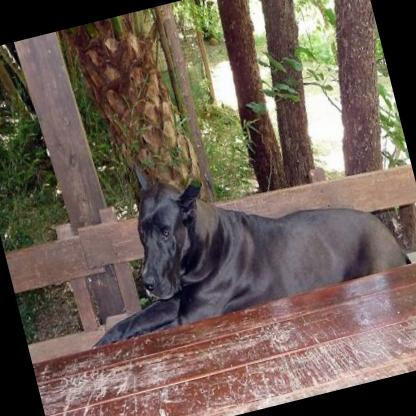Great_Dane: (56, 104, 416, 350)
